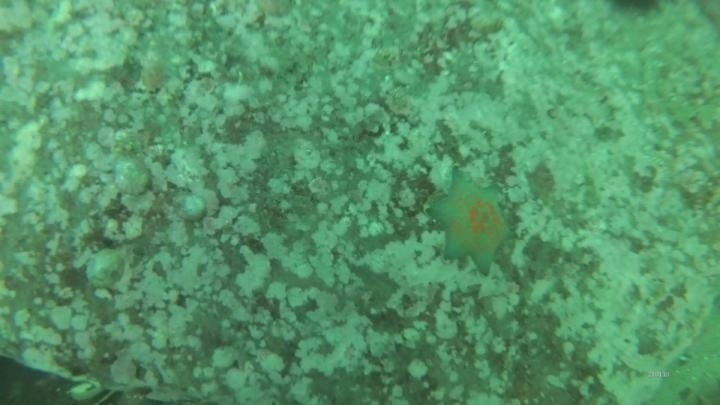starfish: (425, 169, 516, 276)
